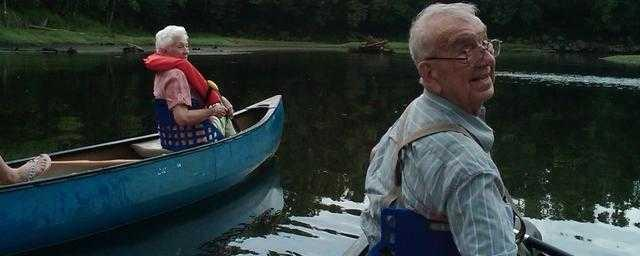kayak: (1, 97, 287, 255), (366, 208, 614, 256)
